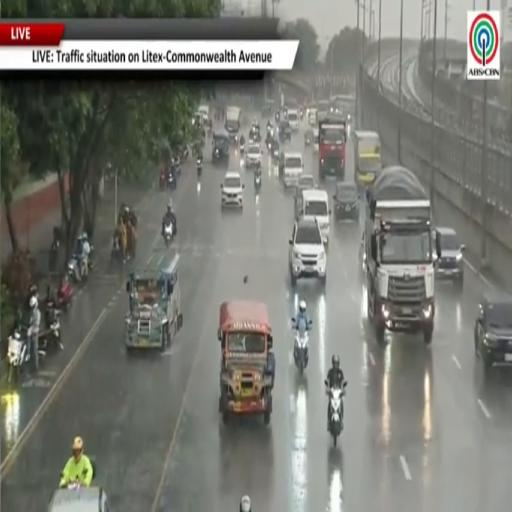car: (474, 293, 511, 370), (289, 219, 326, 285), (436, 228, 465, 286), (300, 189, 330, 245), (48, 487, 108, 511), (294, 174, 316, 219), (333, 182, 359, 220), (221, 171, 244, 209), (280, 152, 303, 187), (245, 143, 261, 168), (287, 108, 299, 132)
jeepney: (218, 301, 274, 424), (125, 254, 182, 351)
motorcycle: (325, 380, 347, 446), (7, 328, 31, 383), (39, 301, 63, 351), (6, 330, 29, 382), (68, 246, 94, 282), (294, 320, 311, 373), (57, 280, 73, 311), (48, 239, 59, 271), (111, 234, 123, 262), (163, 223, 173, 247), (254, 168, 262, 191), (168, 172, 176, 189), (159, 172, 166, 189), (271, 147, 279, 161), (197, 158, 202, 178), (240, 142, 244, 154), (275, 112, 279, 122)
truck: (363, 166, 440, 345), (319, 116, 346, 181), (353, 131, 382, 191)
